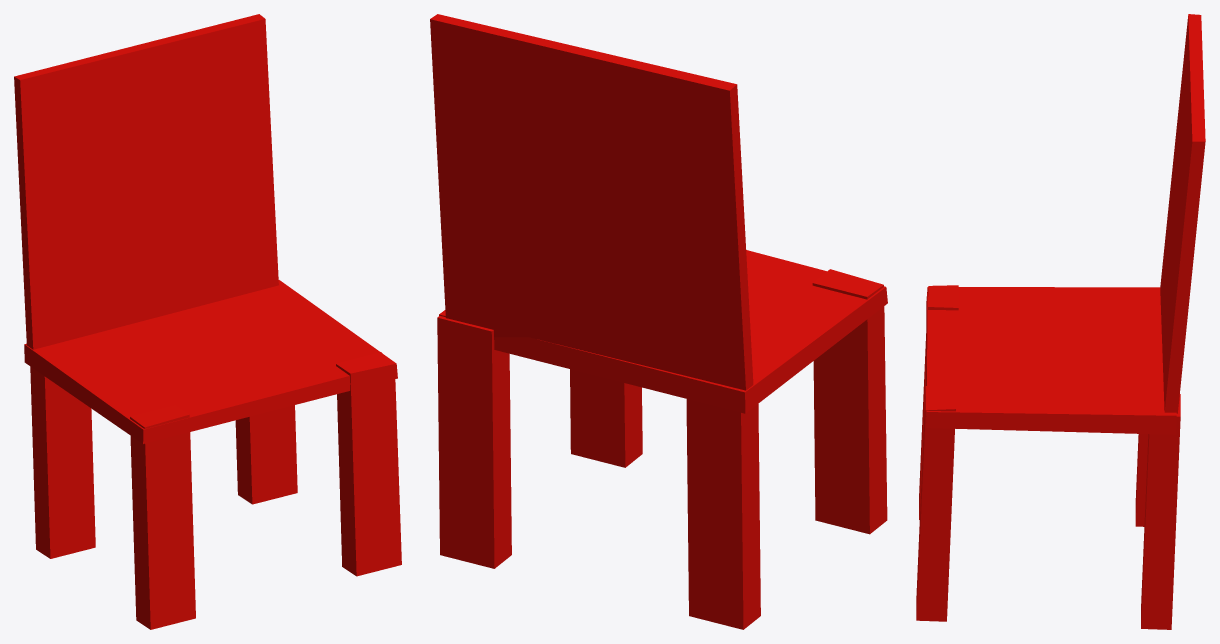
The model's file is chair.fbx.
The picture shows the model from 3 angles, left to right: view 1: azimuth 30°, elevation 25°; view 2: azimuth 150°, elevation 25°; view 3: azimuth 270°, elevation 25°; orthographic projection. The views are drawn at different scales.
Visible parts, largest first — view 1: Cube.004; view 2: Cube.004; view 3: Cube.004.
Part boxes in pixels (<box>): Cube.004: <box>14,14,401,629</box>; Cube.004: <box>430,14,887,629</box>; Cube.004: <box>916,14,1205,629</box>.
Size of the model in its own units: 6.3 by 10.87 by 5.84.
